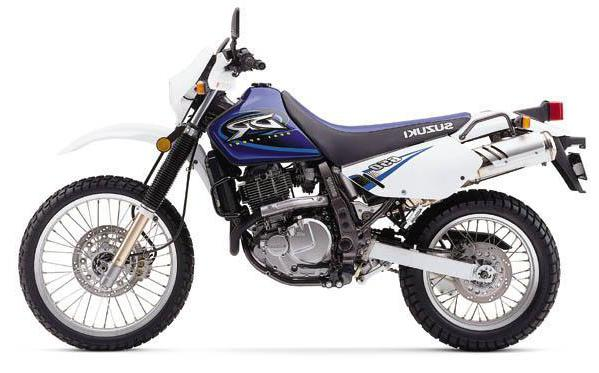motorcycle: (12, 5, 599, 365)
